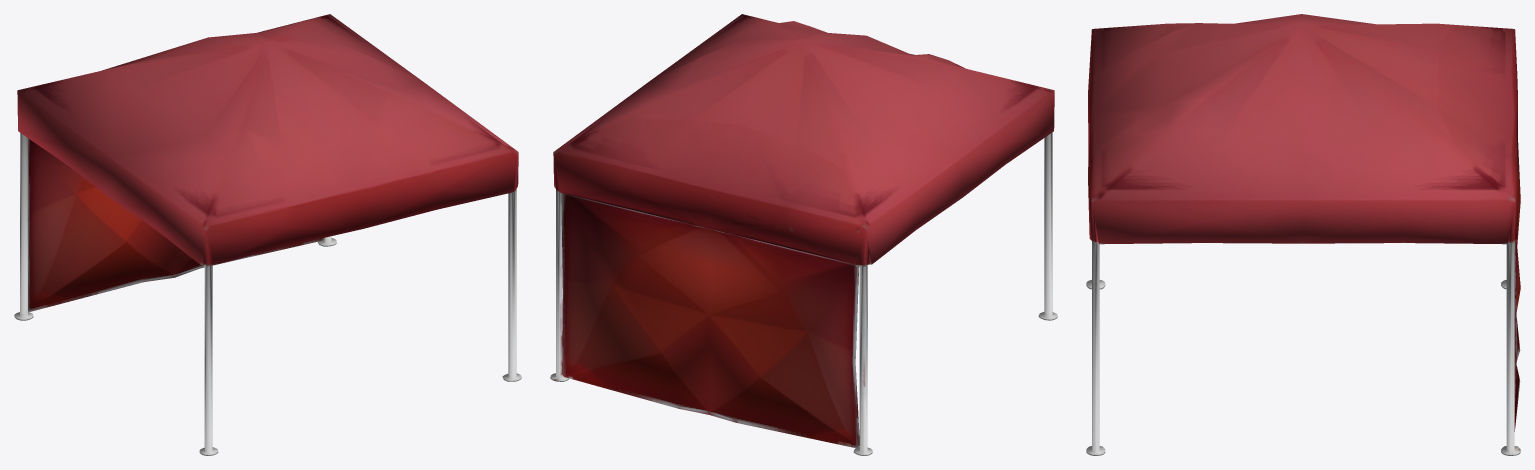
The model's file is Tenda_Merah.fbx.
3 renders of one model, left to right at view 1: azimuth 30°, elevation 25°; view 2: azimuth 150°, elevation 25°; view 3: azimuth 270°, elevation 25°, orthographic. The views are drawn at different scales.
Parts seen in each view (by area): view 1: mesh_rep_0_ori_repair_quad; view 2: mesh_rep_0_ori_repair_quad; view 3: mesh_rep_0_ori_repair_quad.
Part boxes in pixels (x1,y1,x2,y2): mesh_rep_0_ori_repair_quad: (14, 14, 521, 455); mesh_rep_0_ori_repair_quad: (550, 14, 1057, 455); mesh_rep_0_ori_repair_quad: (1086, 14, 1520, 455).
Bounding box in the file's own units: 425 × 389 × 446.
Materials: 1 (1 with a texture image).
